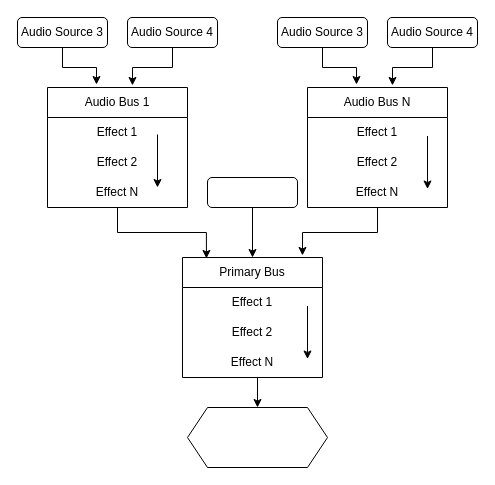
The diagram is 495 pixels wide and 485 high, and some of its shapes have lost their labels. Each missing label, with the centre of its shape:
"Audio Ouput Device" belongs at pixel 257 437.
"Audio Source N" belongs at pixel 252 192.
